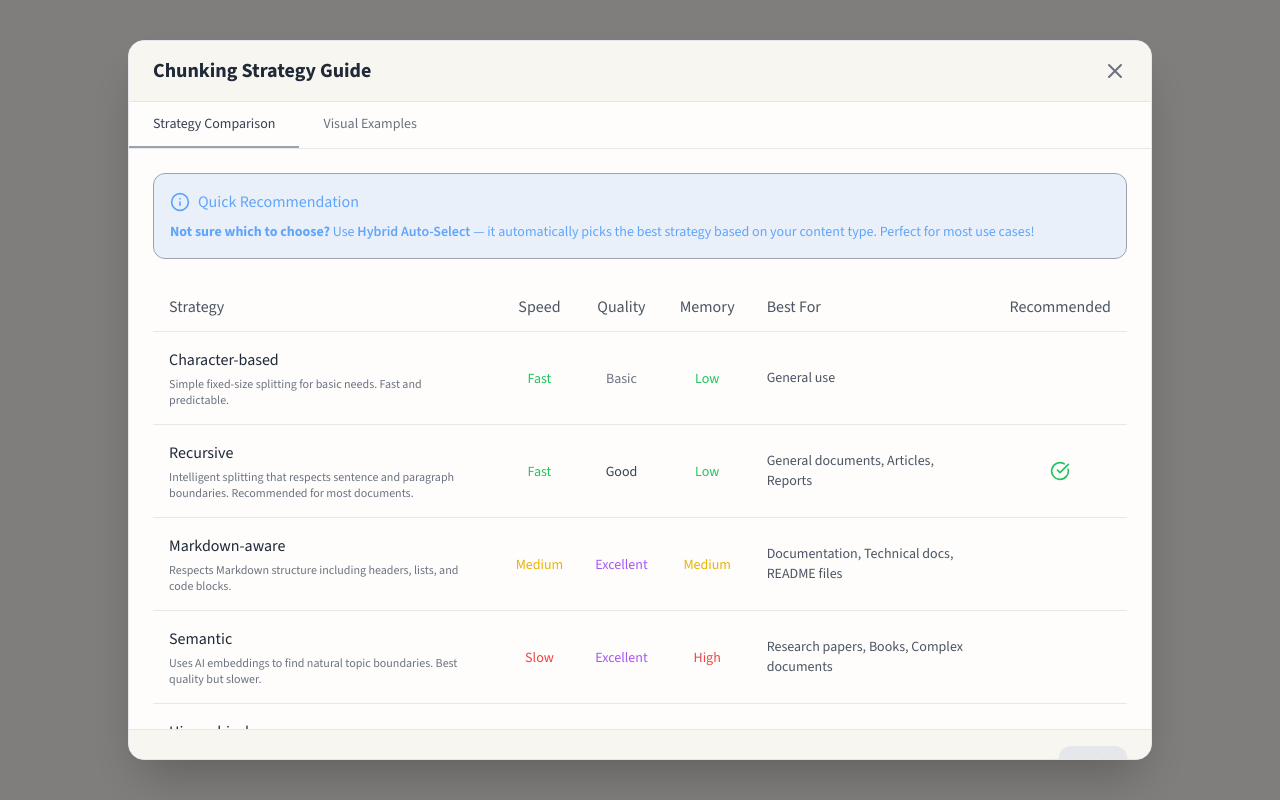
ChunkingStrategyGuide › Tab Switching › switches between comparison and examples tabs
The width and height of the screenshot is (1280, 800).
Expected: the heading "Quick Recommendation" is shown, [170,191,359,212]
Expected: the text "How Each Strategy Chunks Text" is not shown
Note: Switch to examples tab
Click the button "Visual Examples": (370, 125) [299,102,441,148]
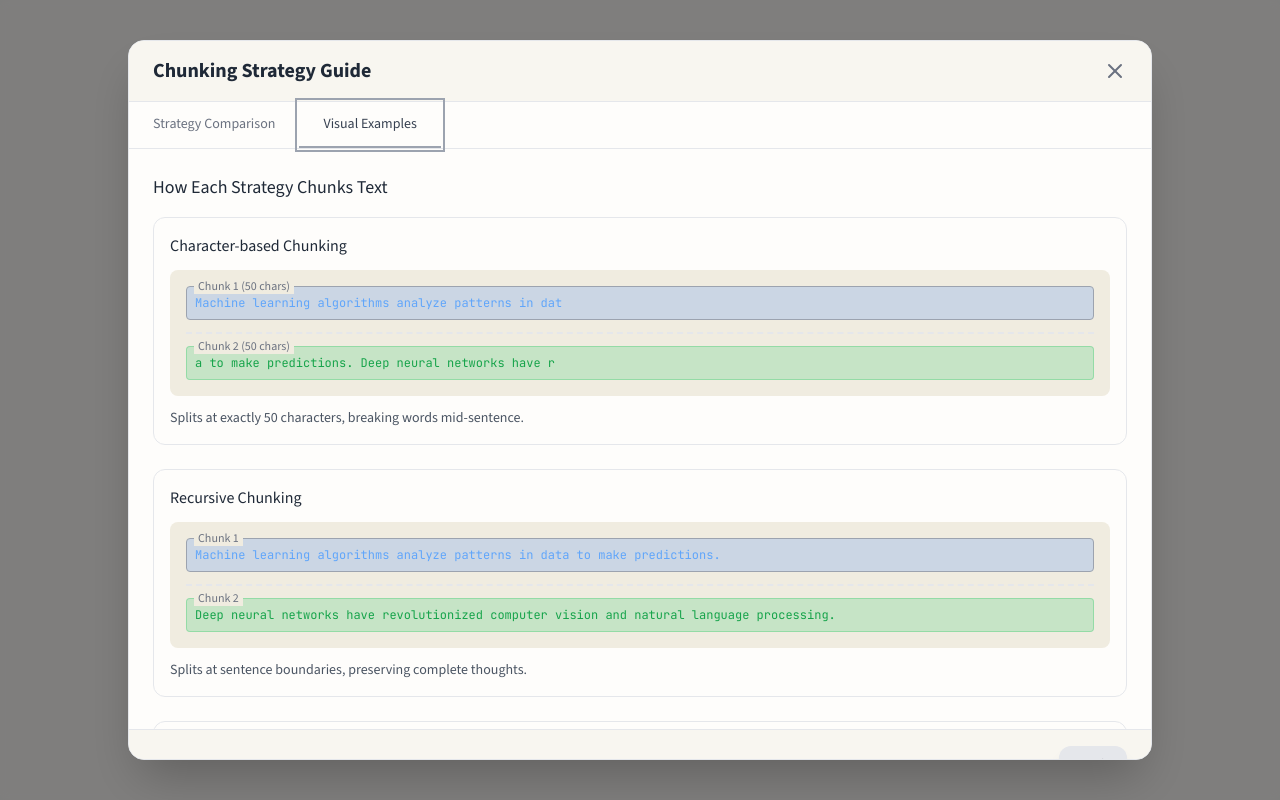
Expected: the heading "How Each Strategy Chunks Text" is shown, [153,175,388,199]
Expected: the heading "Quick Recommendation" is gone
Note: Switch back to comparison tab
Click the button "Strategy Comparison": (214, 125) [129,102,299,148]
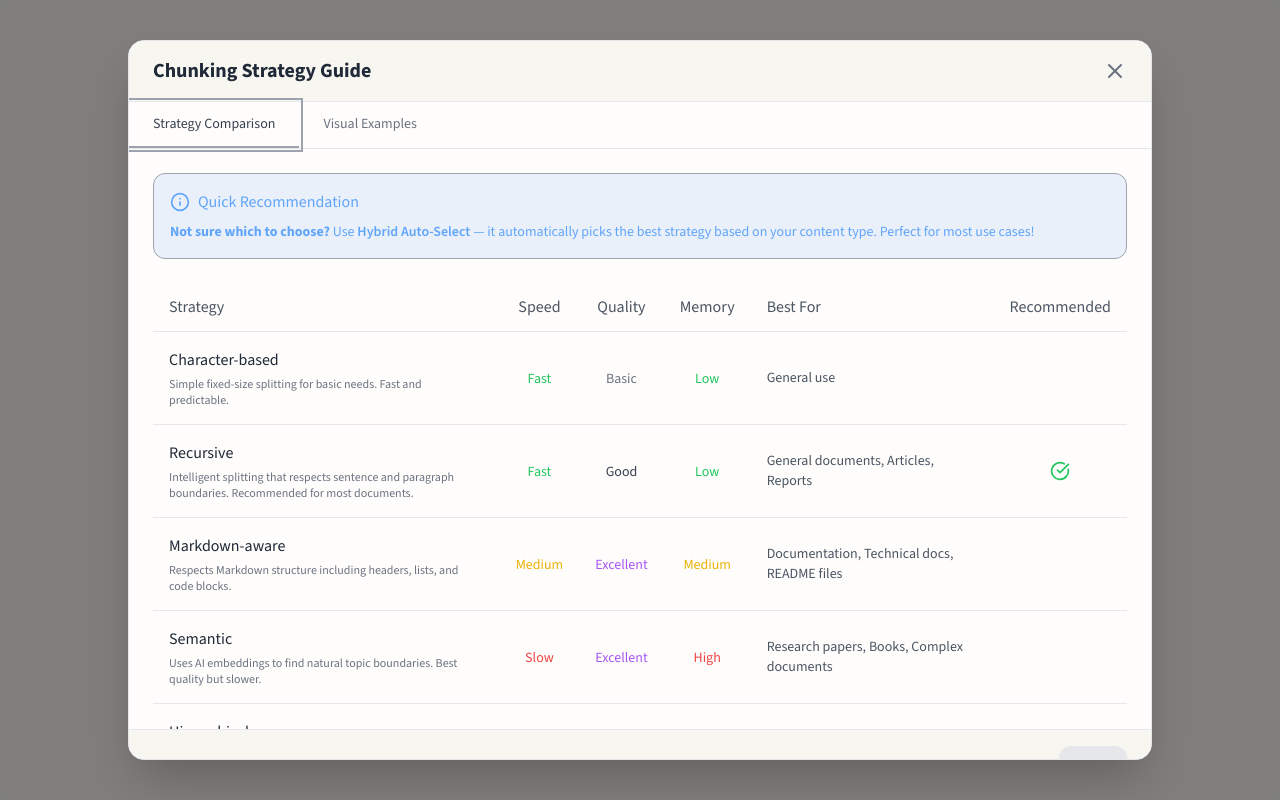
Expected: the heading "Quick Recommendation" is shown, [170,191,359,212]
Expected: the heading "How Each Strategy Chunks Text" is gone
